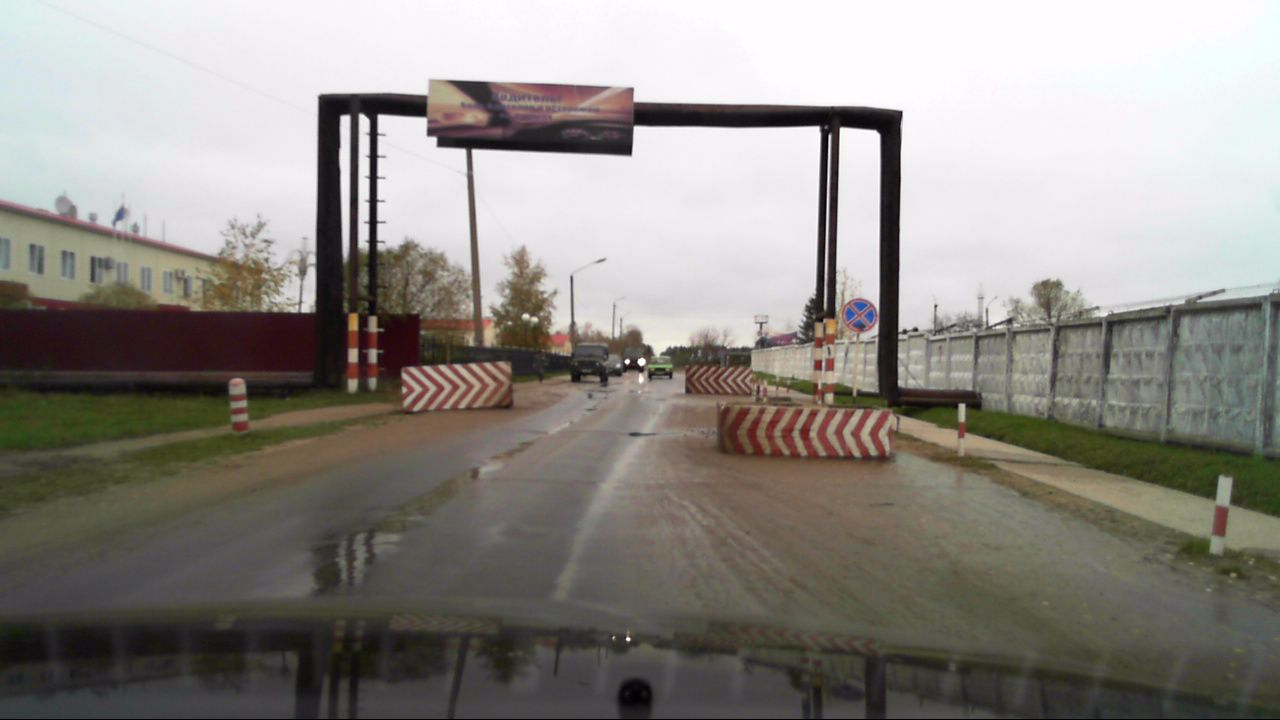No Parking: (841, 298, 877, 333)
